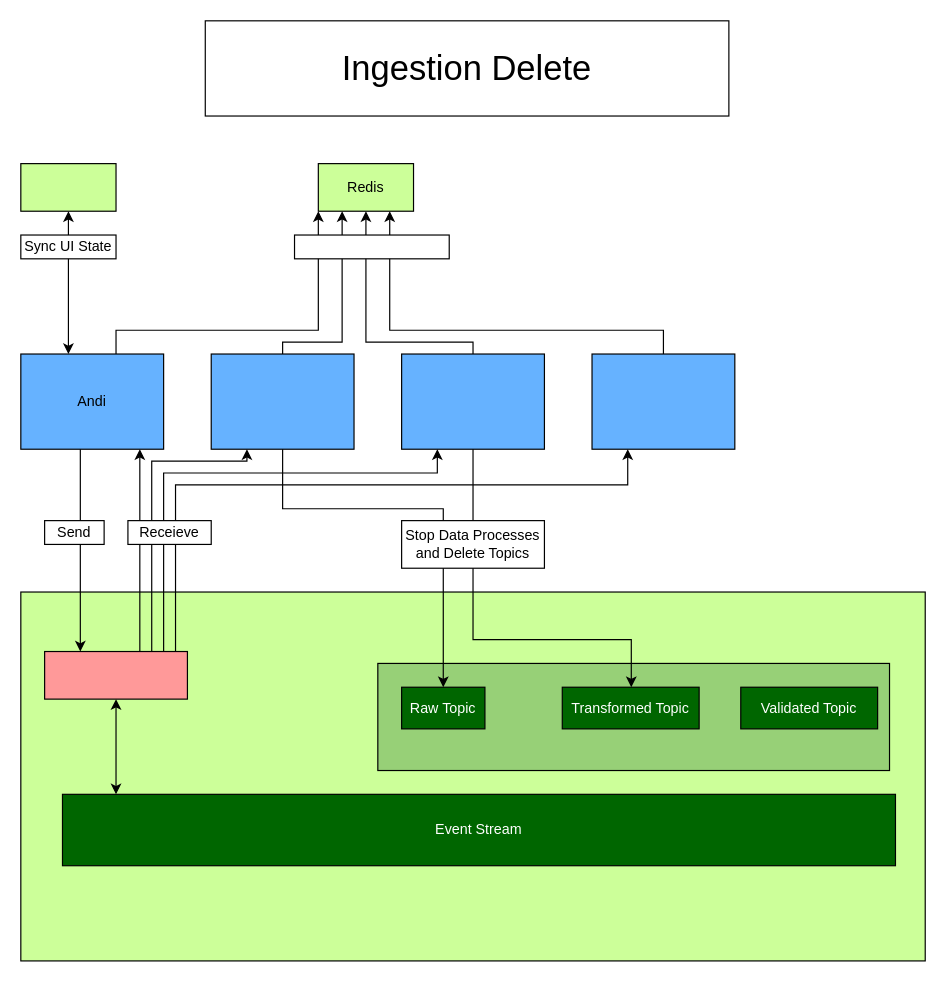
Image size: 946x982. Some labels were removed from this diagram. The shapes that lost their labels are listed below. From the top down, each one's centre as x and y in pixels, then its label:
At [68,186]: "Postgres".
At [371,246]: "Remove Ingestion Entity".
At [282,401]: "Reaper".
At [472,401]: "Alchemist".
At [663,401]: "Forklift".
At [115,674]: "Ingestion_Delete".
